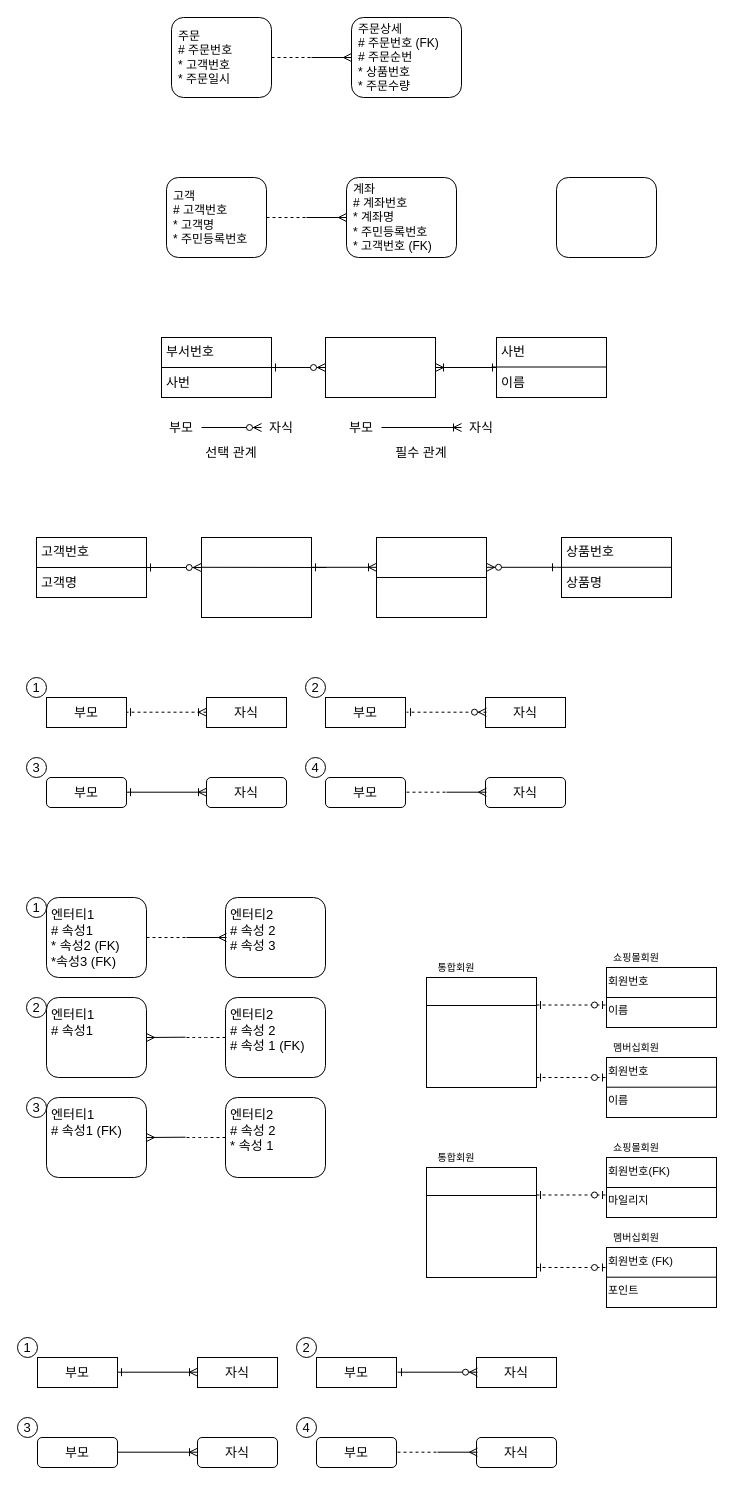
Some shapes in this 735 by 1485 pixel diagram are drawn without their labels. The centre of each missing label's shape, as x and y in pixels:
"부서번호 (FK) 사번 (FK)" goes at point (380, 367).
"사원 # 사원번호 * 사원명 0 입사일시 0 부서번호(FK)" goes at point (606, 217).
"주문번호 (FK) 주문순번 상품번호 (FK) 주문수량" goes at point (431, 577).
"주문번호 고객번호 (FK) 주문일시" goes at point (256, 577).
"통합회원번호 이름 전화번호 쇼핑몰회원번호 (FK) 멤버십회원번호 (FK)" goes at point (481, 1032).
"통합회원번호 이름 전화번호 회원구분코드" goes at point (481, 1222).
